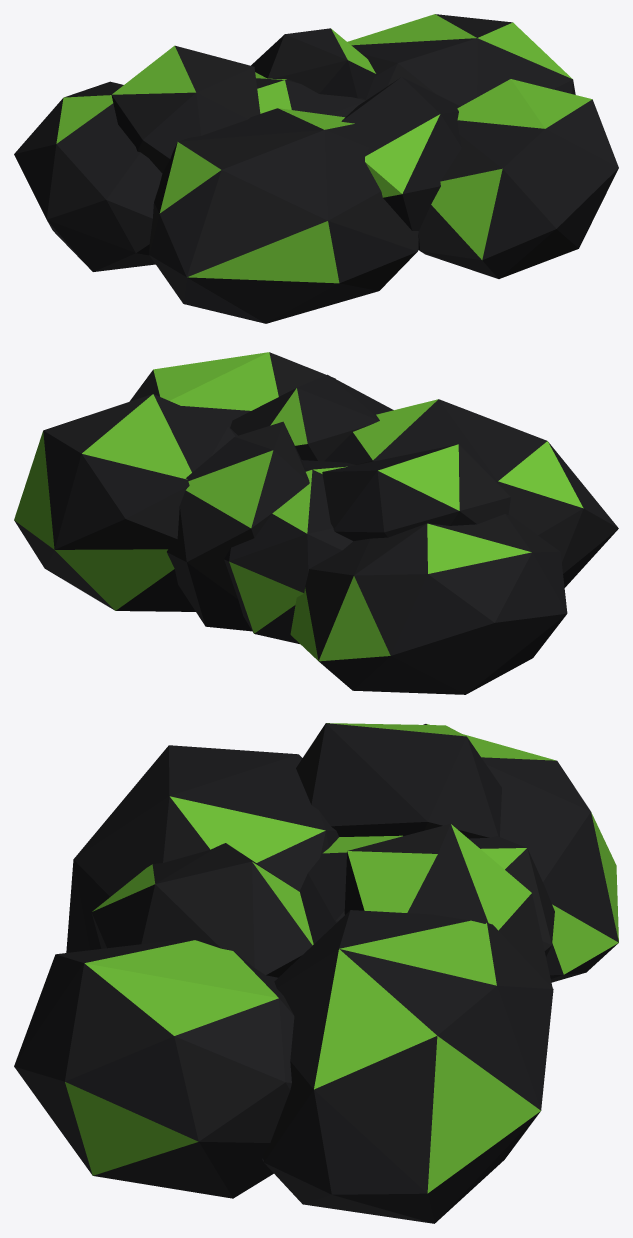
The model's file is bushes_big.fbx.
3 renders of one model, top to bottom at view 1: azimuth 30°, elevation 25°; view 2: azimuth 150°, elevation 25°; view 3: azimuth 270°, elevation 25°, orthographic. The views are drawn at different scales.
Parts seen in each view (by area): view 1: couple_of_bushes; view 2: couple_of_bushes; view 3: couple_of_bushes.
Part boxes in pixels (x1=…): couple_of_bushes: x1=14, y1=14, x2=618, y2=323; couple_of_bushes: x1=14, y1=352, x2=618, y2=694; couple_of_bushes: x1=14, y1=723, x2=618, y2=1223.
Size of the model in its own units: 85.31 by 29.01 by 60.75.
